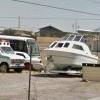Boat: (39, 32, 100, 83)
